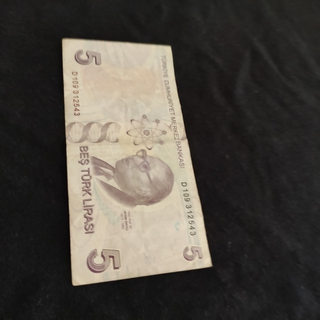5TLBack: (60, 37, 214, 287)
